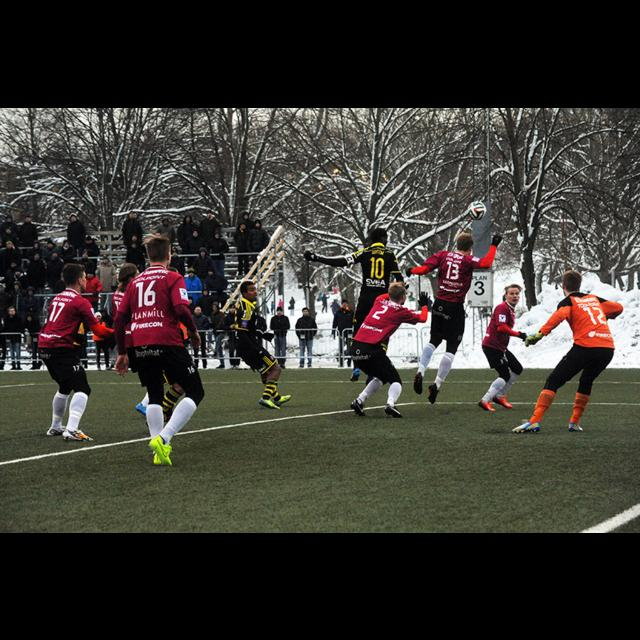Football: (468, 200, 484, 220)
